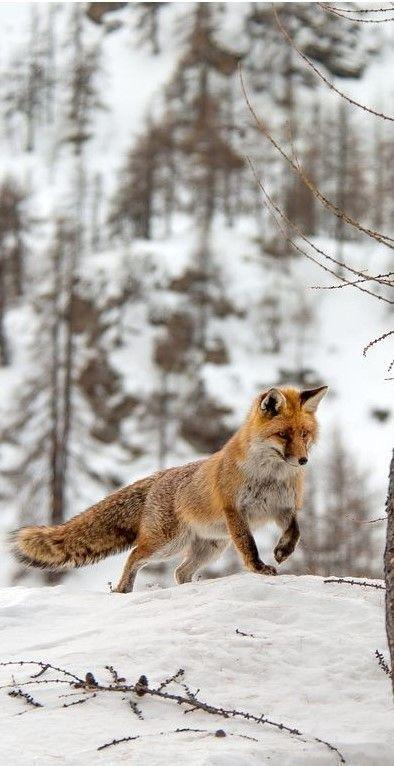fox: (17, 373, 349, 592)
